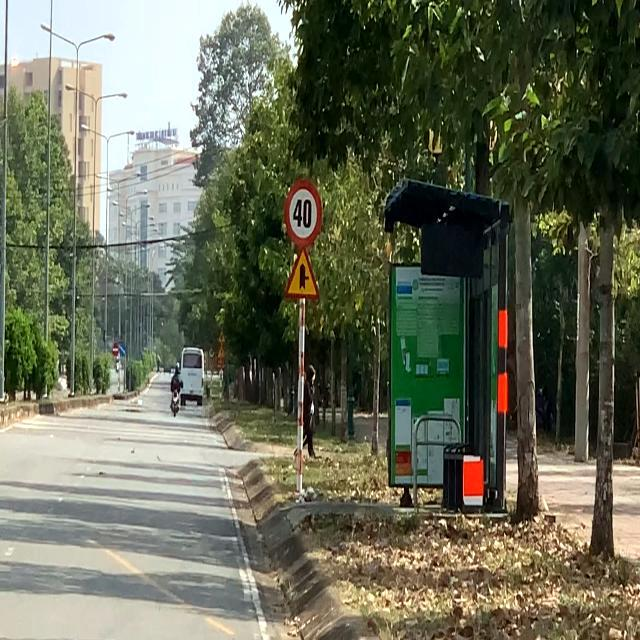Cam di nguoc chieu: (112, 342, 119, 356)
Giao nhau voi duong khong uu tien ben phai: (284, 245, 322, 302)
Toc do toi da cho phep: (284, 179, 322, 246)
Vong chuong ngai vat sang phai: (119, 342, 126, 356)
